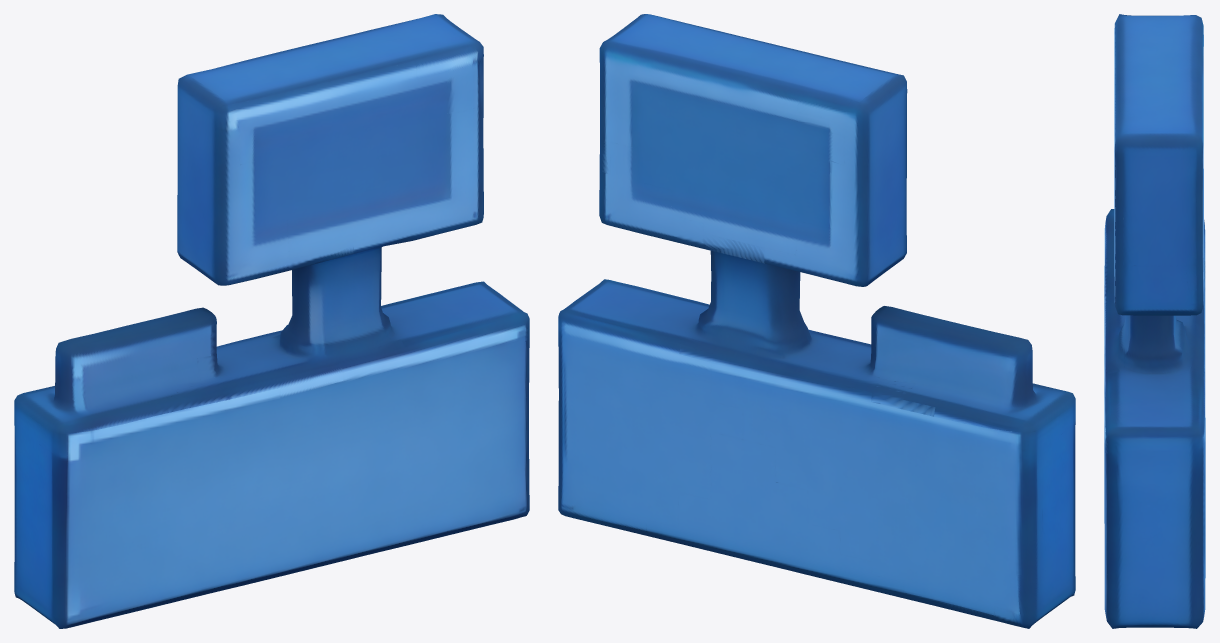
The model's file is 05-register.fbx.
3 views of the same model, side by side, from view 1: azimuth 30°, elevation 25°; view 2: azimuth 150°, elevation 25°; view 3: azimuth 270°, elevation 25° (orthographic). The views are drawn at different scales.
Parts seen in each view (by area): view 1: model; view 2: model; view 3: model.
Part boxes in pixels (box(x1,y1,x2,y2)): model: box(14, 14, 529, 628); model: box(558, 14, 1075, 628); model: box(1104, 14, 1205, 628).
Bounding box in the file's own units: 190 × 184 × 35.67.
